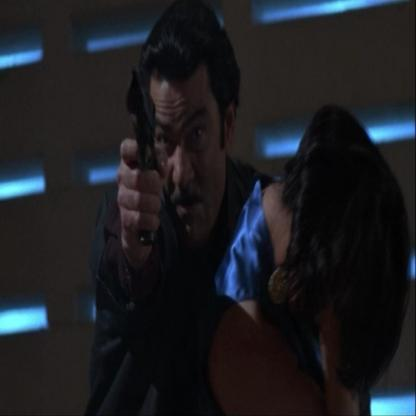gun: (120, 62, 166, 199)
